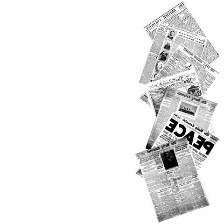news_paper: (134, 134, 212, 221), (135, 109, 221, 183), (135, 42, 219, 112), (142, 0, 220, 72), (141, 80, 215, 153), (142, 68, 215, 136), (134, 20, 207, 85)
